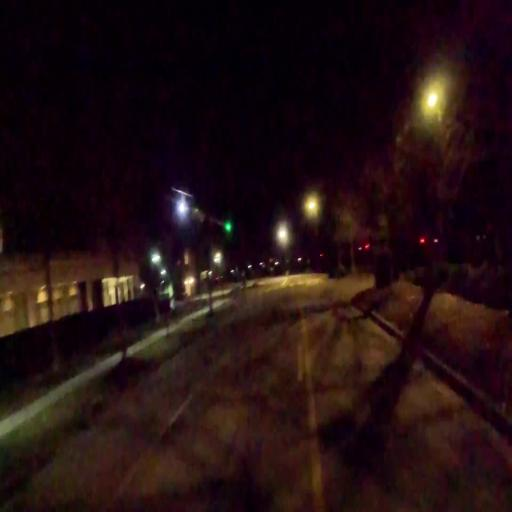uav: (164, 182, 234, 243)
